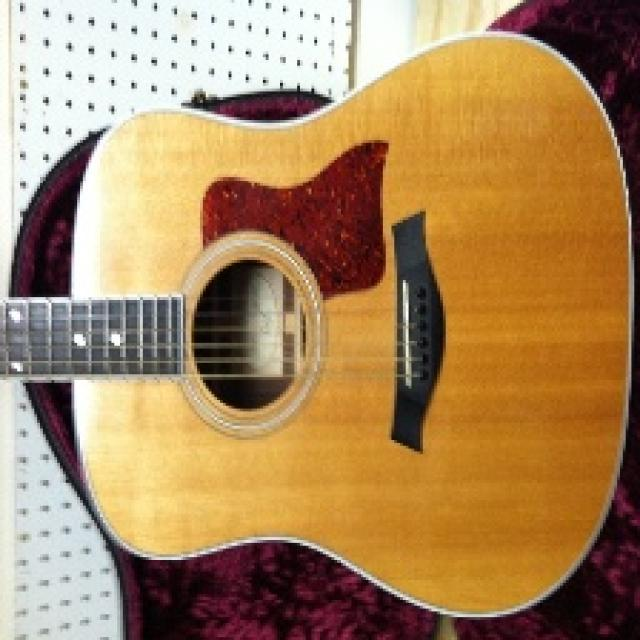guitar: (0, 29, 637, 617)
